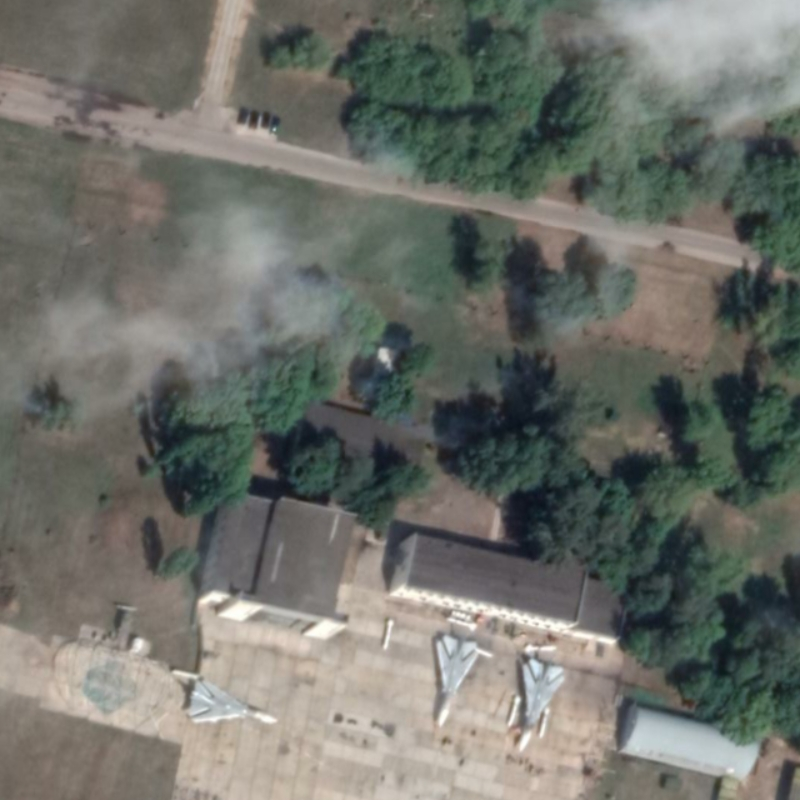A20: (516, 655, 568, 753), (186, 678, 281, 727), (434, 633, 481, 729)
